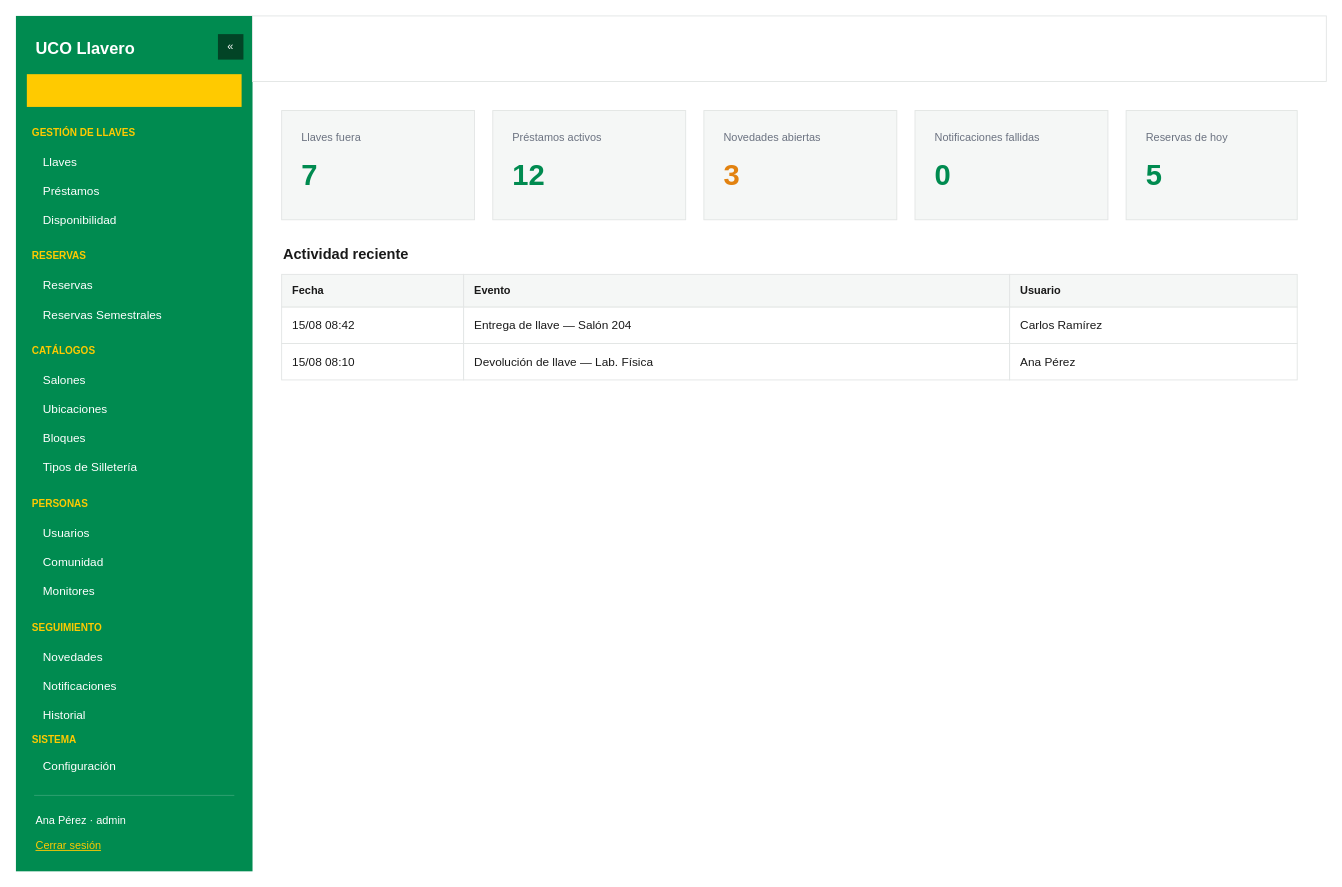
Some shapes in this 1342 by 887 pixel diagram are drawn without their labels. Here are the shapes that lost their labels. From the top down, the box of each, then its label:
(252, 15, 1326, 81): Dashboard
(26, 74, 241, 106): ■ Dashboard
